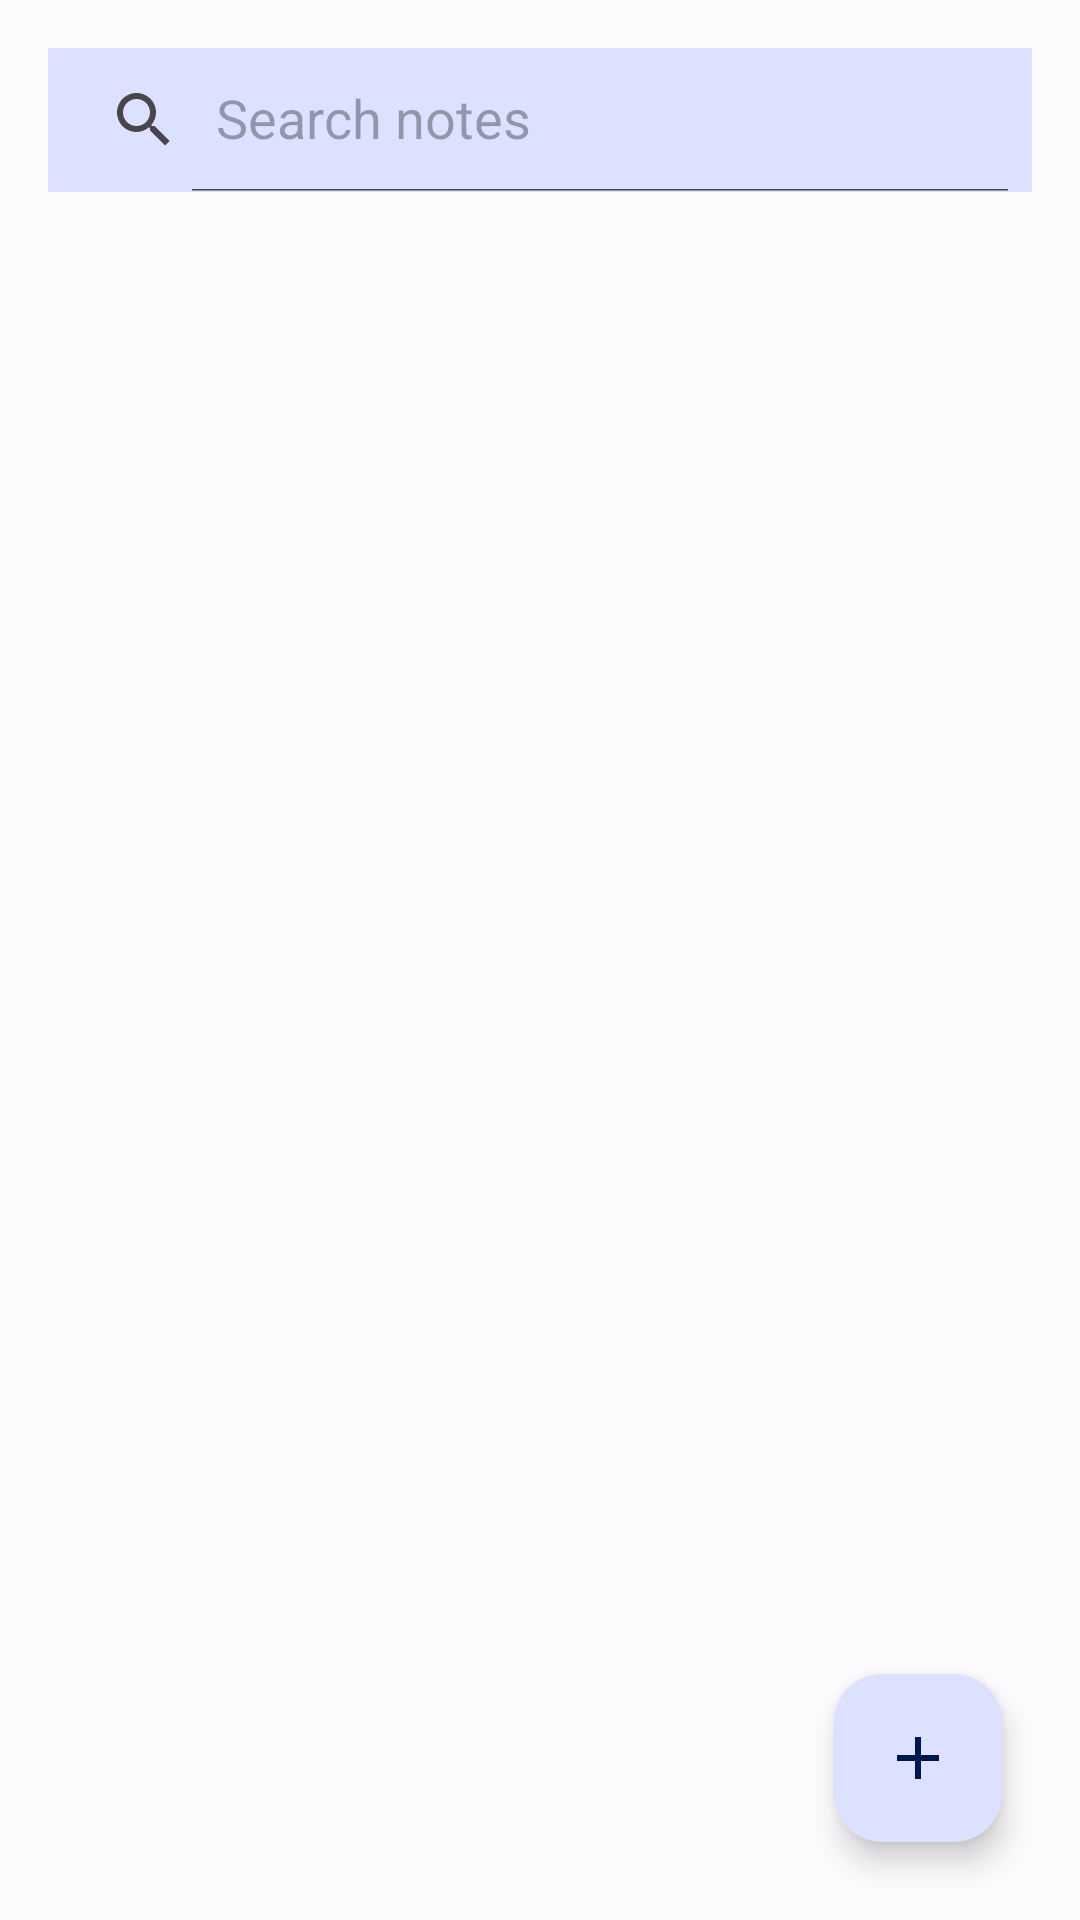

Icon bounding boxes for this 1080 × 1920 phone screenshot, format bbox(x1, y1, x2, y2):
Add note: bbox(834, 1674, 1002, 1842)
